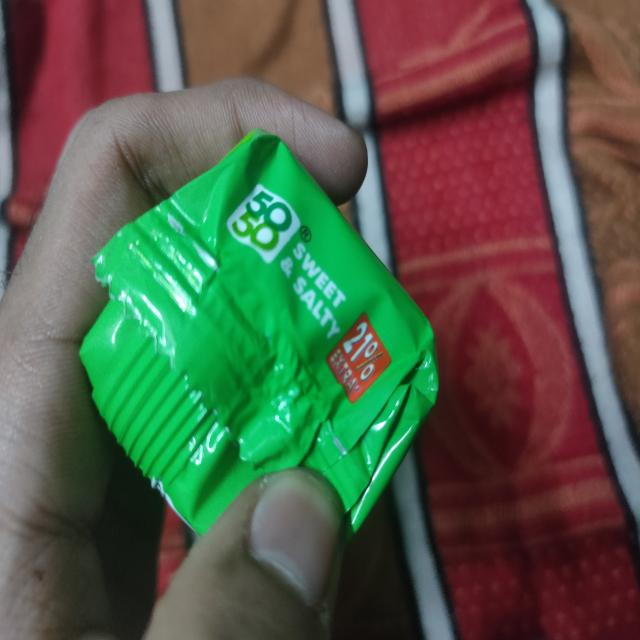50 50 biscuit: (75, 134, 437, 564)
